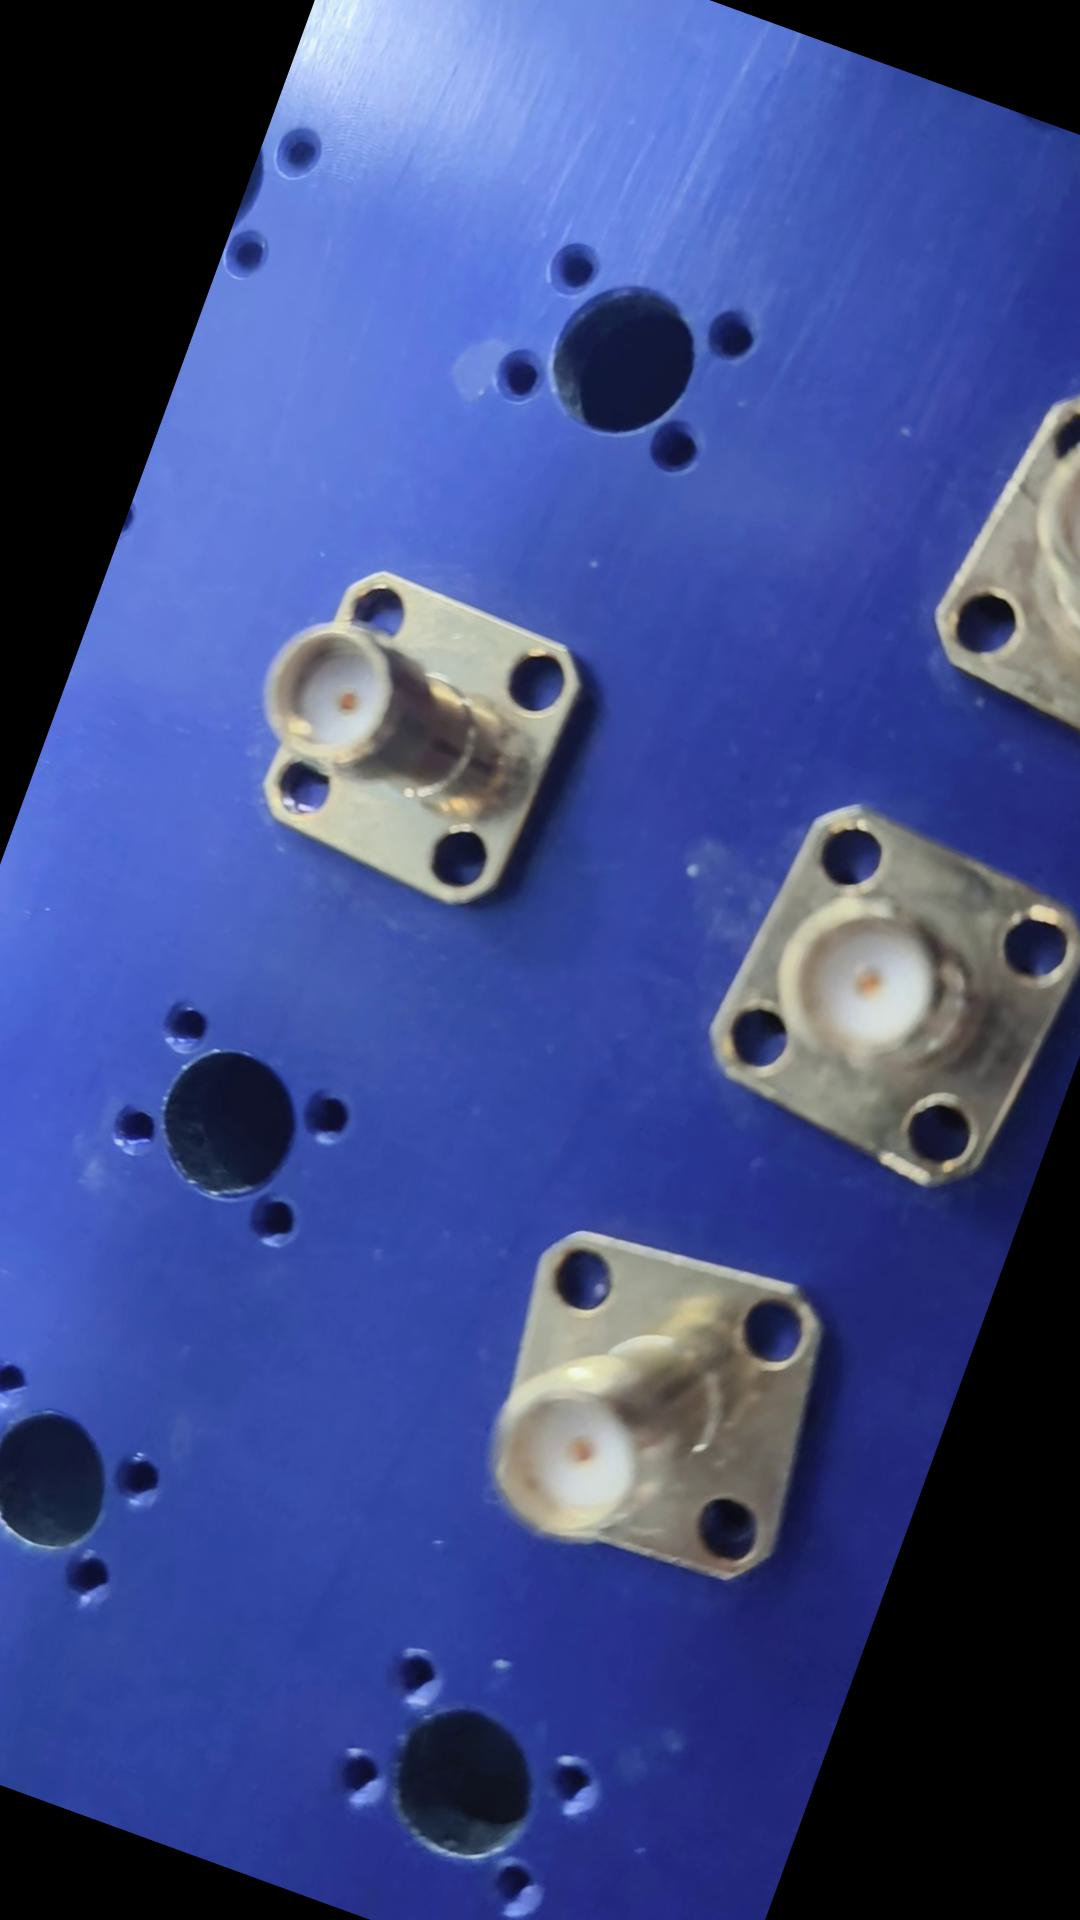SMA: (429, 1197, 865, 1604), (680, 786, 1079, 1209), (214, 531, 617, 934), (893, 359, 1079, 791)
